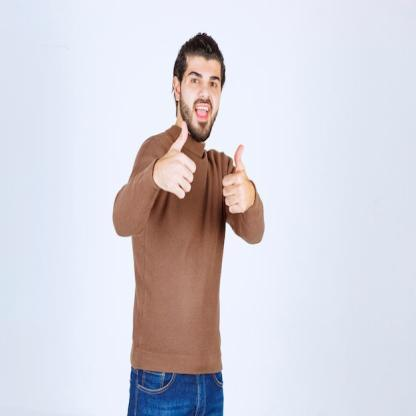thumb_up: (154, 115, 197, 199), (219, 138, 254, 217)
